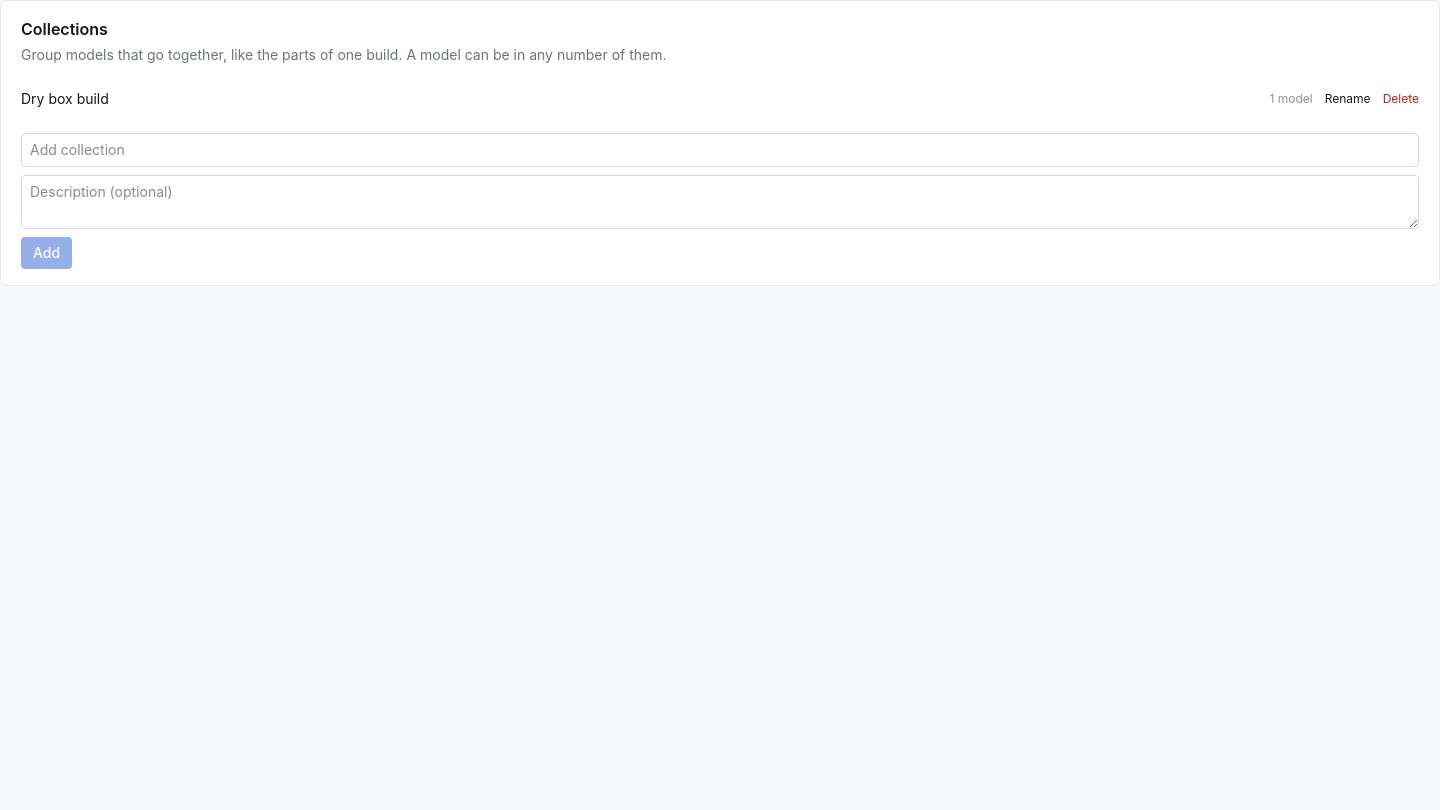
it: CollectionsSection › counts one model in the singular
Click the button with aria-label "Delete Dry box build". click: (1401, 99)
box: [1383,91,1419,107]
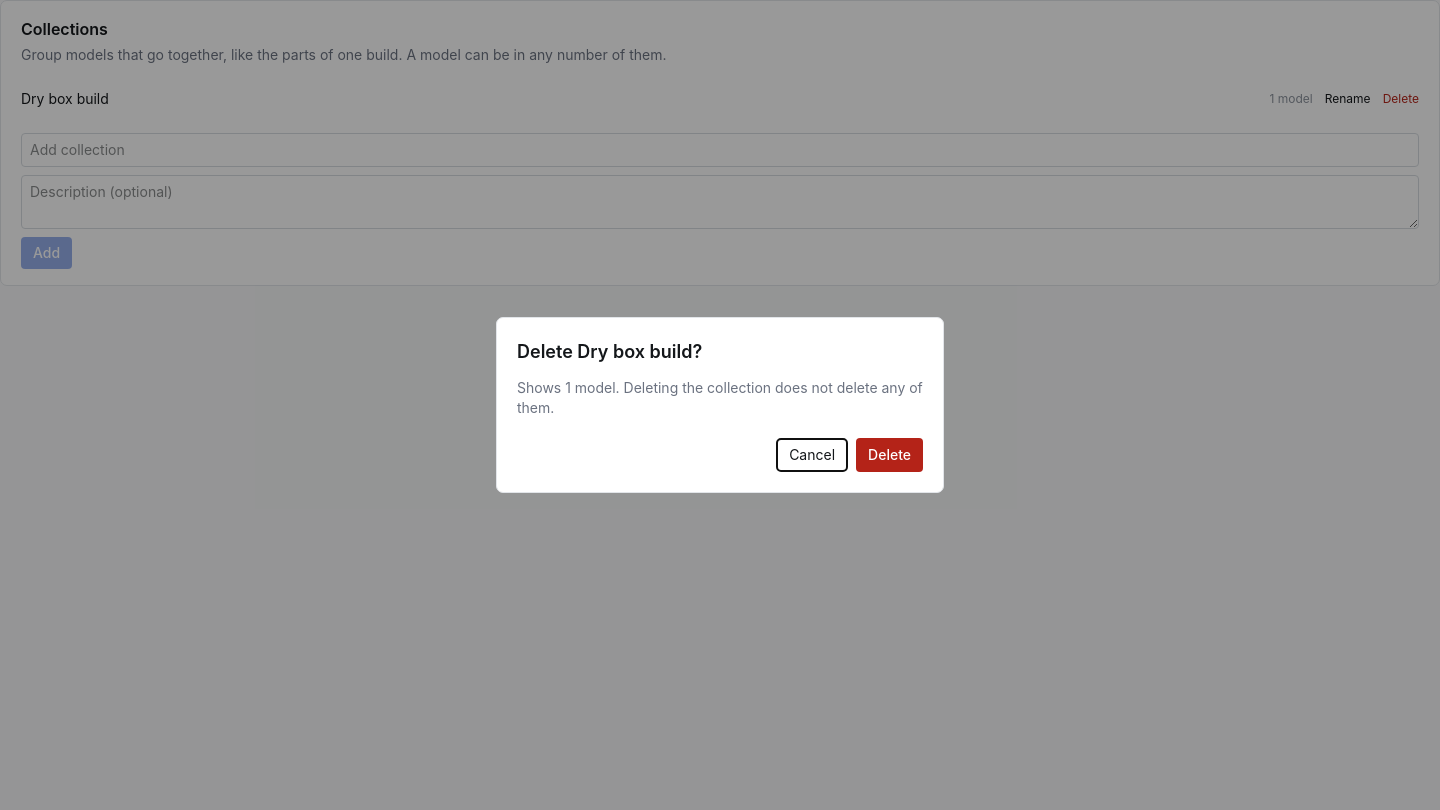
Expected: the dialog shows "Shows 1 model.", [517,379,923,416]
